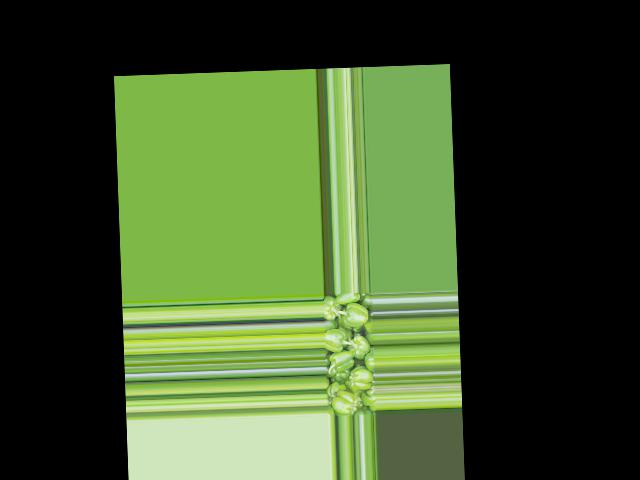bell_pepper: (324, 293, 376, 416)
